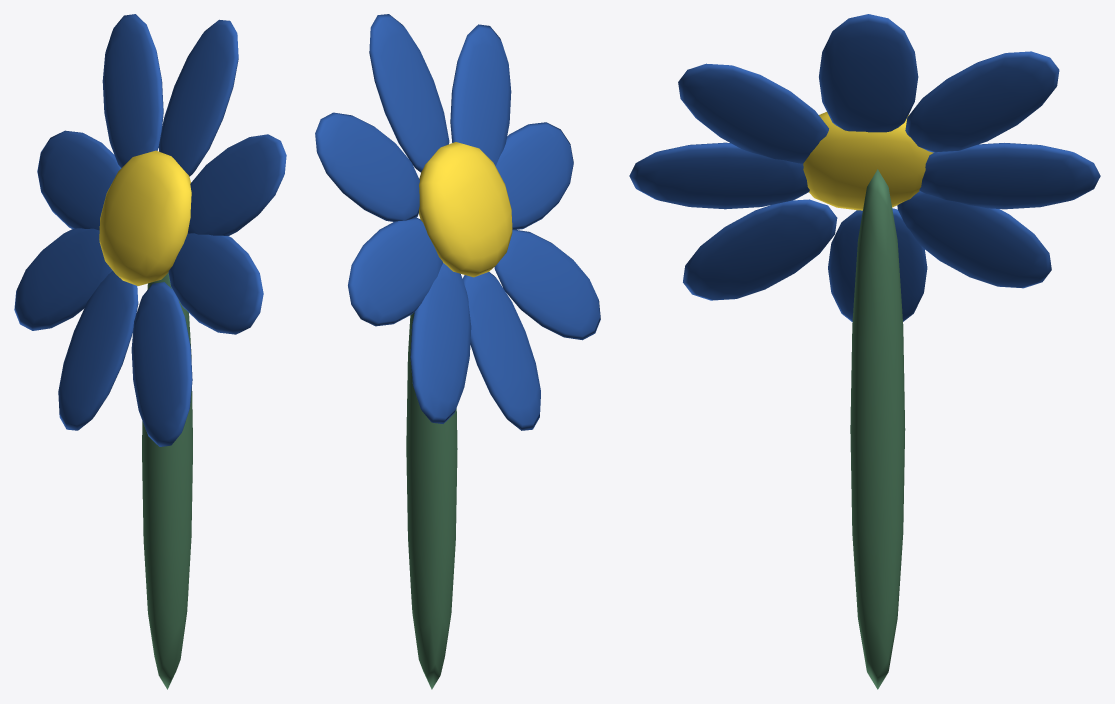
Rendered from flower4.fbx.
The picture shows the model from 3 angles, left to right: view 1: azimuth 30°, elevation 25°; view 2: azimuth 150°, elevation 25°; view 3: azimuth 270°, elevation 25°; orthographic projection. The views are drawn at different scales.
Visible parts, largest first — view 1: Flower.002; view 2: Flower.002; view 3: Flower.002.
Boxes of the visible parts, x1,y1,x2,y2 form: Flower.002: (14, 14, 286, 689); Flower.002: (315, 14, 600, 689); Flower.002: (629, 14, 1100, 689).
Bounding box in the file's own units: 32.12 × 126 × 75.9.
